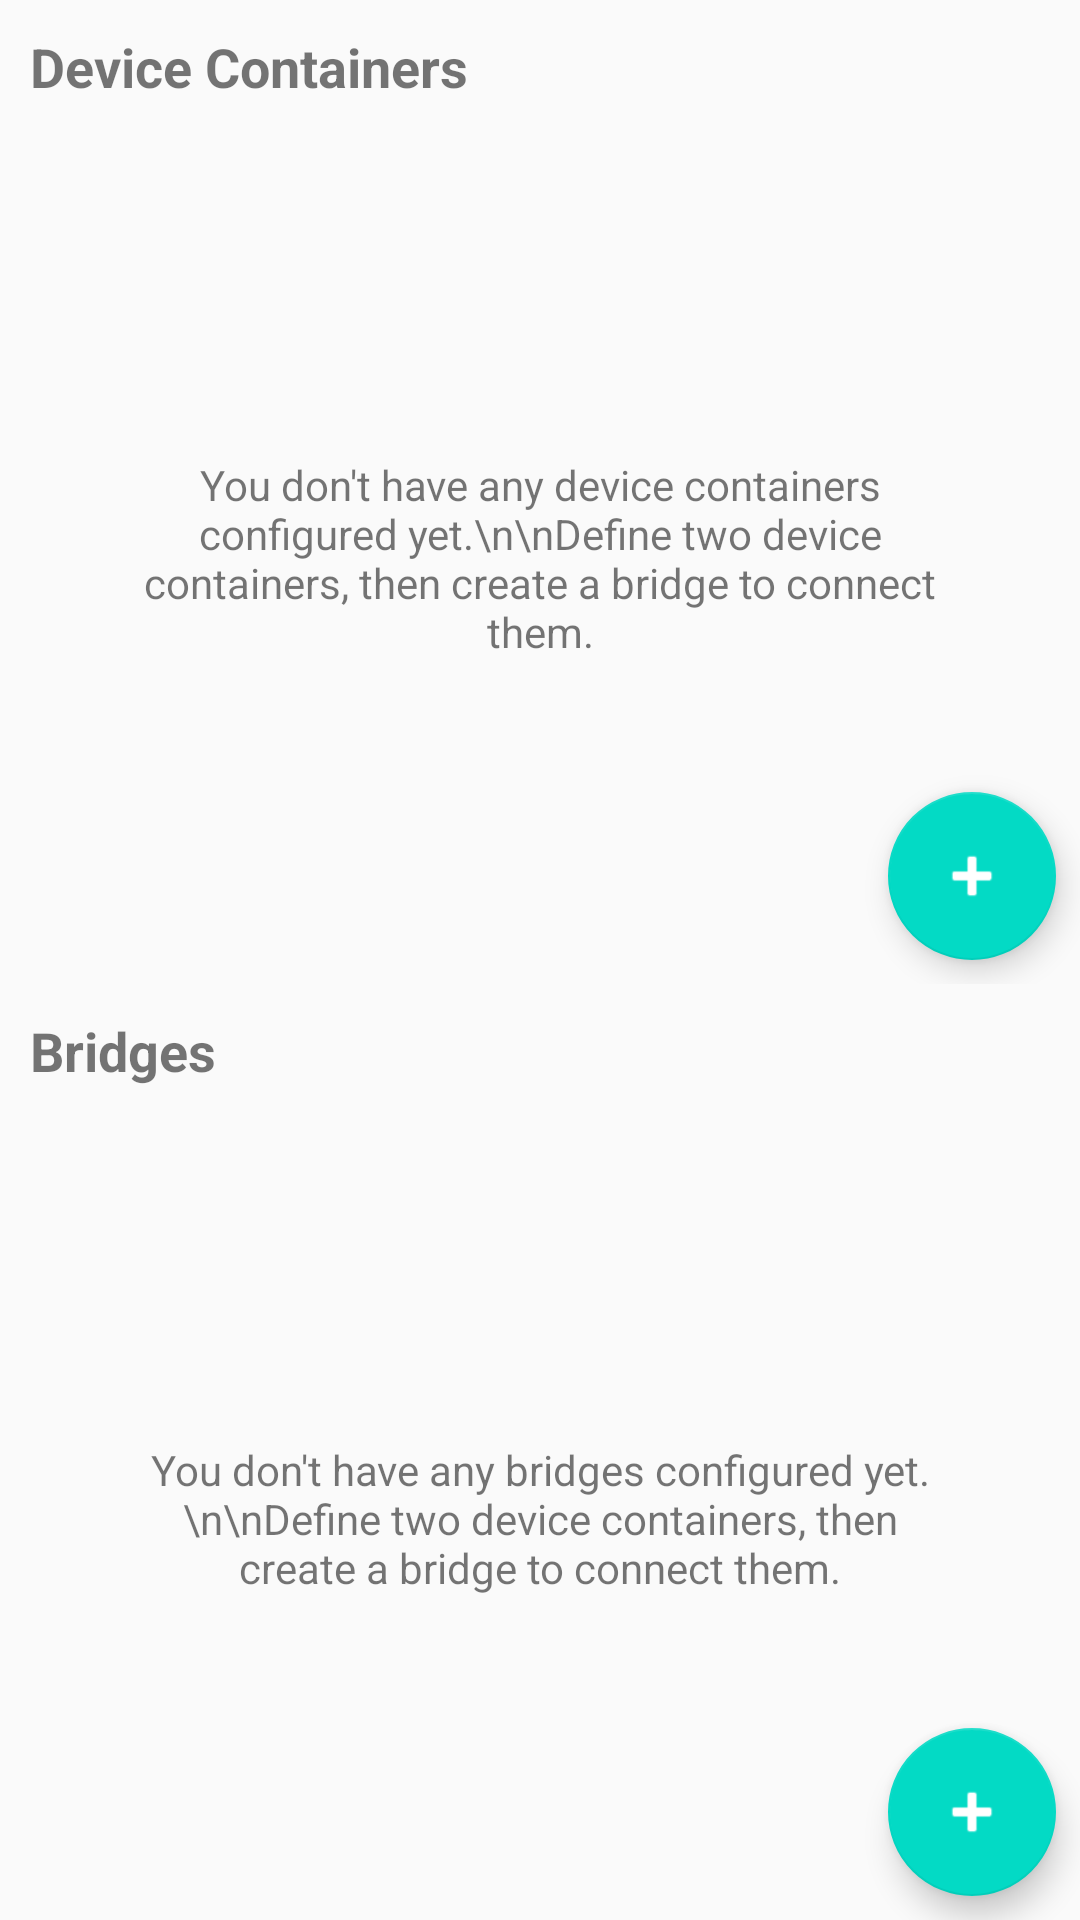

Screen size 1080x1920. Icon name, then its box in pixels as Rect(x1, y1, x2, y2):
add: Rect(888, 792, 1056, 960), Rect(888, 1728, 1056, 1896)
